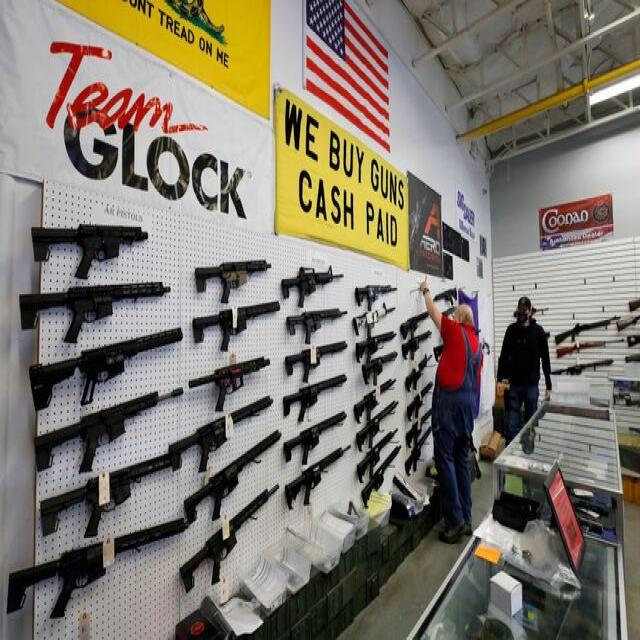Rifle: (33, 393, 171, 541), (7, 521, 183, 620), (30, 329, 182, 413), (179, 483, 281, 591), (20, 283, 171, 344), (184, 431, 283, 523), (30, 226, 148, 280), (190, 358, 271, 414), (192, 302, 282, 352), (286, 450, 347, 509), (168, 418, 229, 472), (196, 262, 271, 305), (283, 413, 347, 463), (283, 376, 348, 422), (281, 267, 344, 306), (284, 343, 348, 378), (287, 308, 345, 344), (230, 396, 274, 427)
